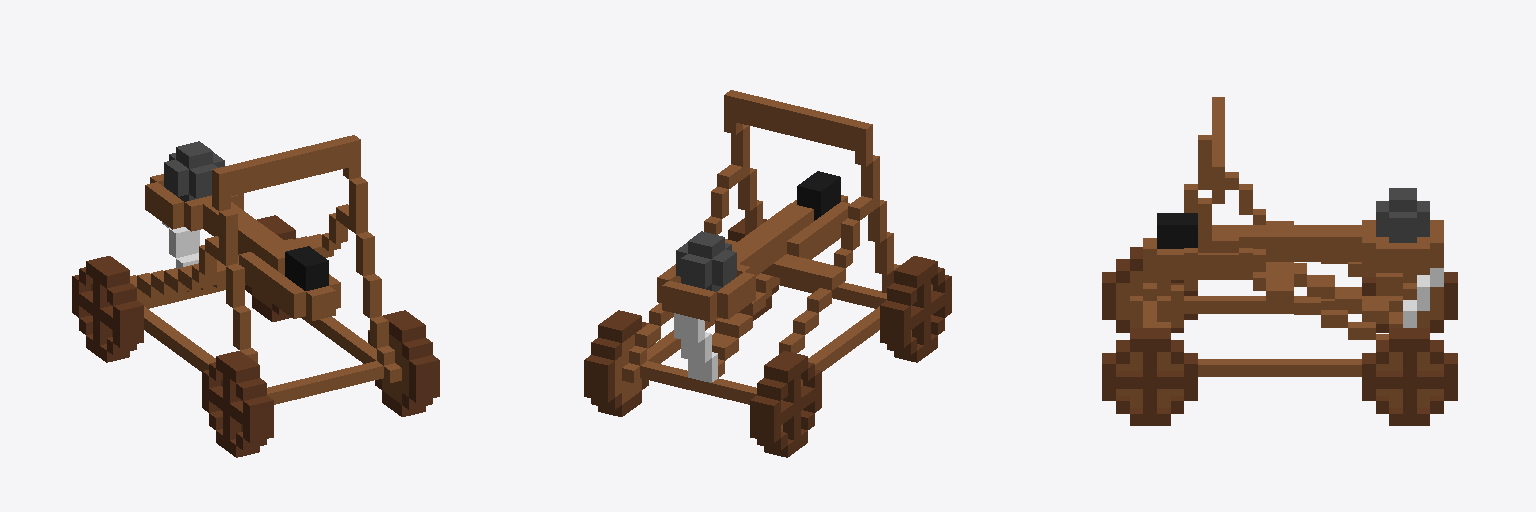
The picture shows the model from 3 angles: view 1: azimuth 30°, elevation 25°; view 2: azimuth 150°, elevation 25°; view 3: azimuth 270°, elevation 25°; orthographic projection.
Visible parts, largest first — view 1: object 1; view 2: object 1; view 3: object 1.
Boxes of the visible parts, box(x1,y1,x2,y2) form: object 1: box(72, 135, 439, 457); object 1: box(584, 90, 951, 457); object 1: box(1102, 97, 1457, 425).
Bounding box in the file's own units: 1.6 × 2 × 2.6.
Materials: 1 (1 with a texture image).